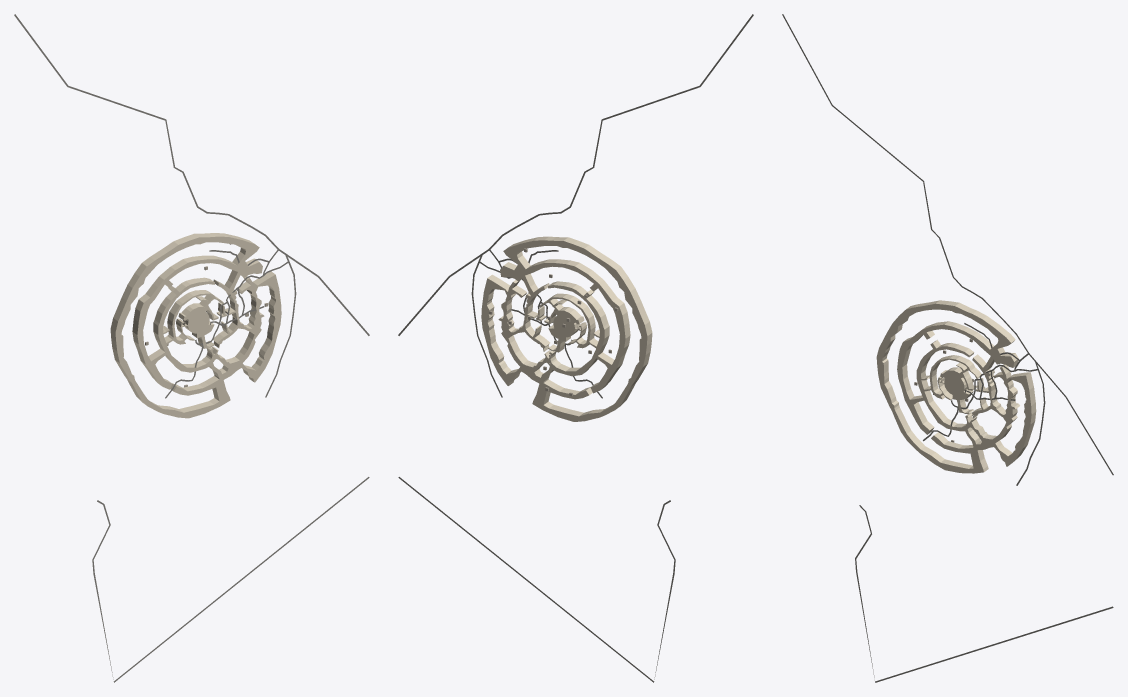
The model's file is historic-palestine-16_35_3580_3290.glb.
3 views of the same model, side by side, from view 1: azimuth 30°, elevation 25°; view 2: azimuth 150°, elevation 25°; view 3: azimuth 330°, elevation 25° (orthographic). The views are drawn at different scales.
Parts seen in each view (by area): view 1: Building_.006, Building_.002, Building_.008, Building_.009, Building_.017, Road, Building_.005, Building_.003, Road .002, Building_.010, Building_.015, Building_.007 (+1 smaller); view 2: Building_.006, Building_.002, Building_.008, Building_.009, Building_.017, Road, Building_.005, Building_.003, Building_.010, Road .002, Building_.015, Building_.007 (+1 smaller); view 3: Building_.002, Building_.006, Building_.008, Building_.009, Road, Building_.017, Building_.003, Building_.005, Road .002, Building_.010, Building_.014, Building_.007 (+1 smaller).
Boxes of the visible parts, <box> form: Building_.006: <box>110,233,211,382</box>; Building_.002: <box>127,349,272,418</box>; Building_.008: <box>145,255,262,299</box>; Building_.009: <box>132,294,172,389</box>; Building_.017: <box>167,290,223,344</box>; Road: <box>14,14,369,335</box>; Building_.005: <box>226,276,264,369</box>; Building_.003: <box>253,271,281,353</box>; Road .002: <box>92,477,369,682</box>; Building_.010: <box>213,270,249,347</box>; Building_.015: <box>153,277,214,327</box>; Building_.007: <box>207,233,259,260</box>; Building_.006: <box>551,237,652,386</box>; Building_.002: <box>491,352,635,421</box>; Building_.008: <box>500,259,617,303</box>; Building_.009: <box>590,297,630,393</box>; Building_.017: <box>539,293,595,348</box>; Road: <box>398,14,753,335</box>; Building_.005: <box>498,280,536,373</box>; Building_.003: <box>481,274,510,357</box>; Building_.010: <box>513,273,550,351</box>; Road .002: <box>398,477,675,682</box>; Building_.015: <box>548,281,609,330</box>; Building_.007: <box>503,236,555,264</box>; Building_.002: <box>892,407,1027,473</box>; Building_.006: <box>876,300,970,411</box>; Building_.008: <box>909,321,1018,367</box>; Building_.009: <box>897,337,934,434</box>; Road: <box>782,14,1113,475</box>; Building_.017: <box>929,355,981,400</box>; Building_.003: <box>1007,372,1036,447</box>; Building_.005: <box>983,364,1019,445</box>; Road .002: <box>855,505,1113,682</box>; Building_.010: <box>972,354,1005,418</box>; Building_.014: <box>916,370,957,429</box>; Building_.007: <box>965,308,1015,348</box>.
Size of the model in its own units: 307 by 572 by 8.7.
